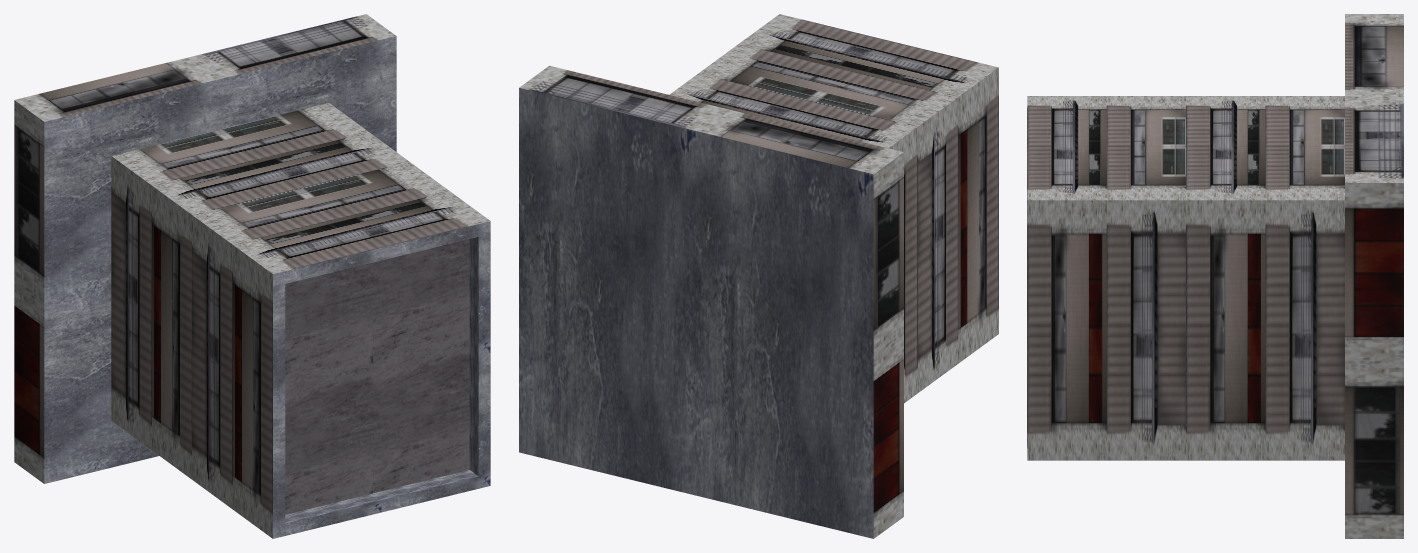
The model's file is urbanoffice1a_wtf.obj.
3 renders of one model, left to right at view 1: azimuth 30°, elevation 25°; view 2: azimuth 150°, elevation 25°; view 3: azimuth 270°, elevation 25°, orthographic. The views are drawn at different scales.
Parts seen in each view (by area): view 1: group5, group3, group4; view 2: group3, group5; view 3: group5.
Boxes of the visible parts, <box> form: group5: <box>14,14,490,538</box>; group3: <box>44,36,490,538</box>; group4: <box>285,239,469,514</box>; group3: <box>519,88,873,538</box>; group5: <box>519,14,998,538</box>; group5: <box>1027,14,1403,538</box>.
Bounding box in the file's own units: 660 × 648 × 622.
